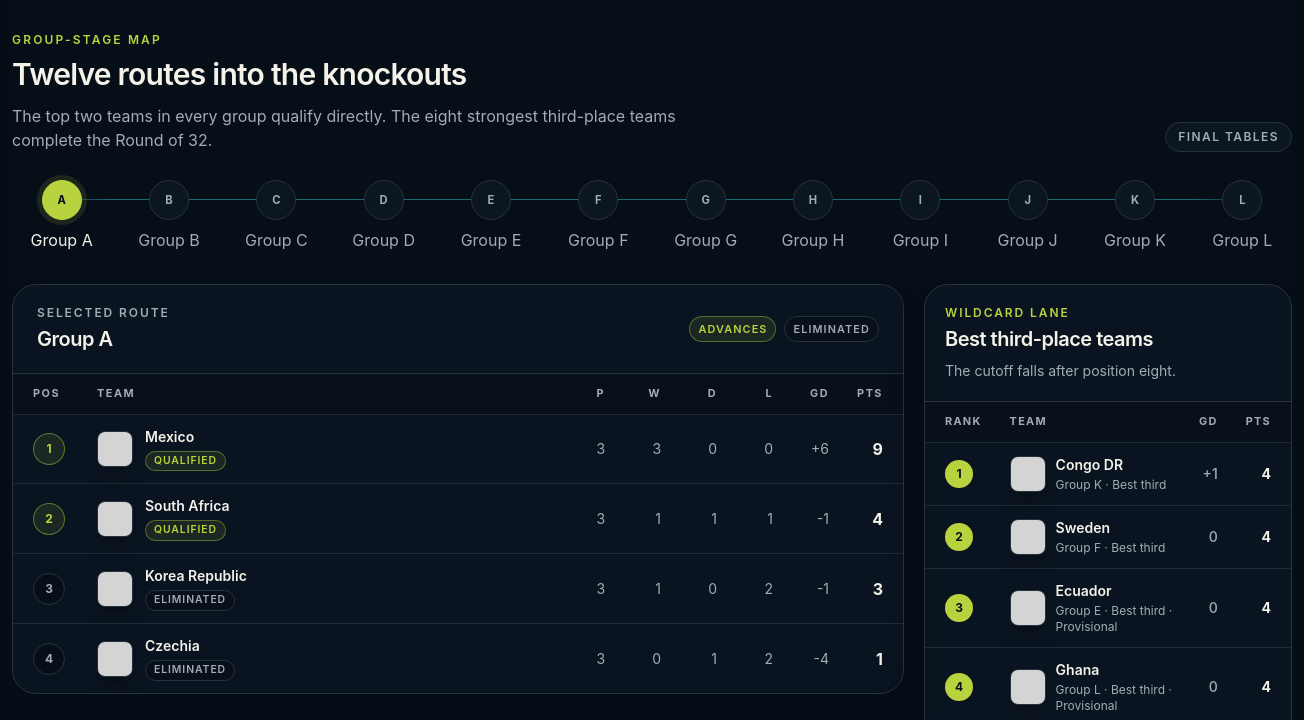
Test case: GroupStandingsView › switches between all twelve group routes
Expected: the navigation bar named "Group standings selector" is shown, [12,180,1292,252]
Click the button with aria-label "Show Group L standings" at [1242, 216], box [1193,180,1292,252]
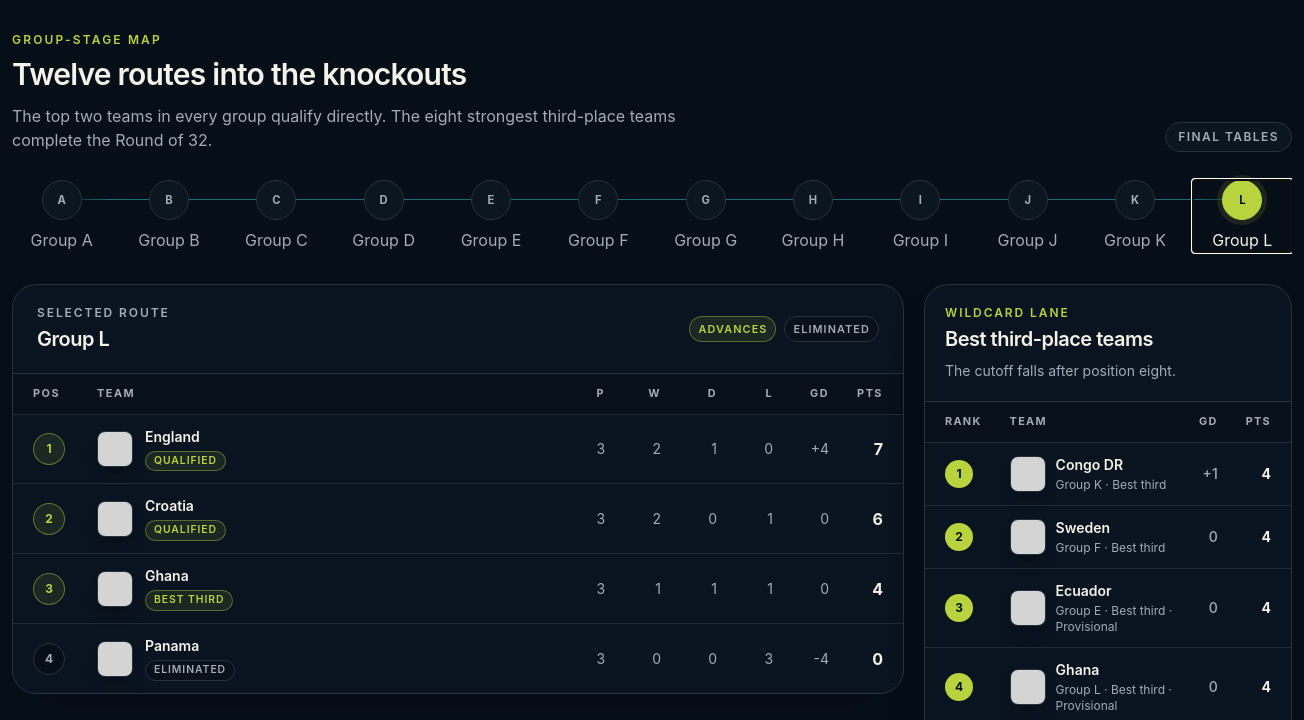
Expected: the table "Group A standings" is not shown
Expected: the text "England" is shown, [145,428,200,444]
Expected: the text "Panama" is shown, [145,637,199,654]
